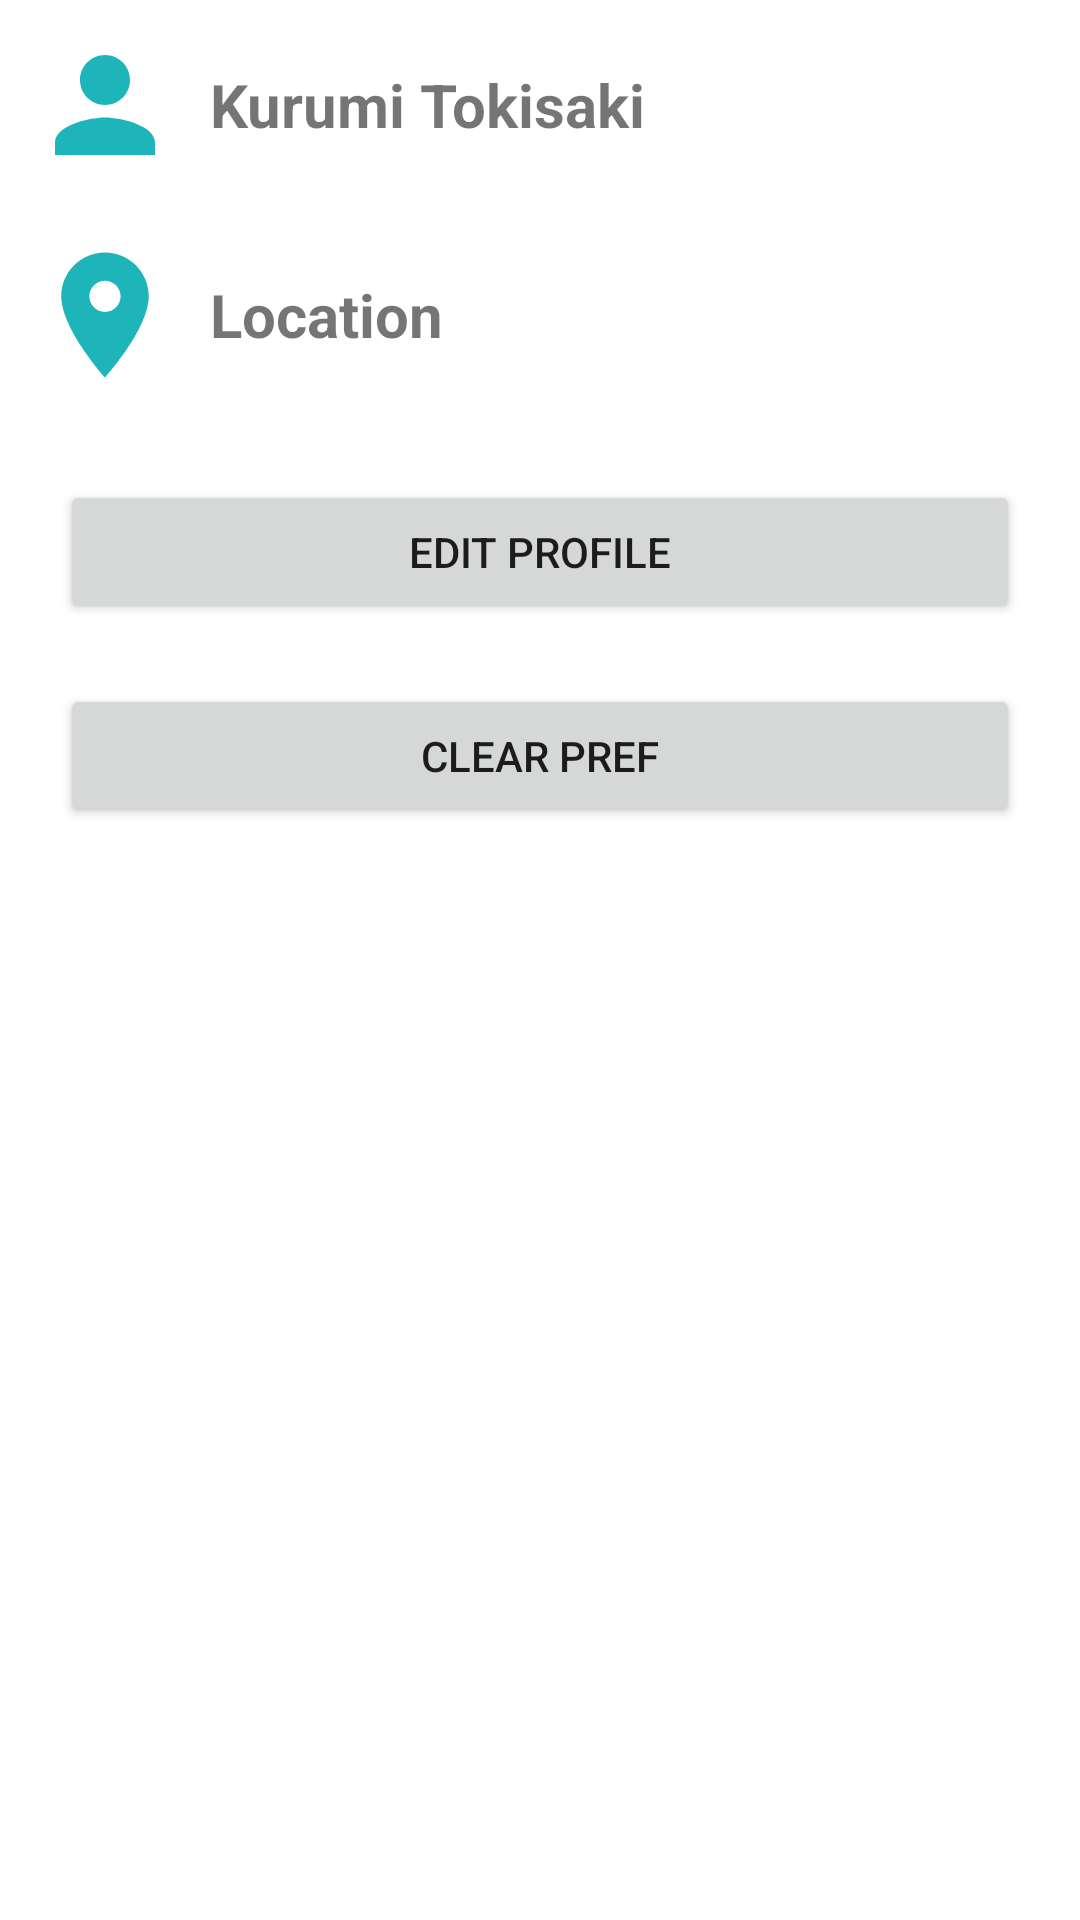

Icon bounding boxes for this 1080×1920 phone screenshot, format (x1, y1, x2, y2):
person: (55, 55, 155, 155)
